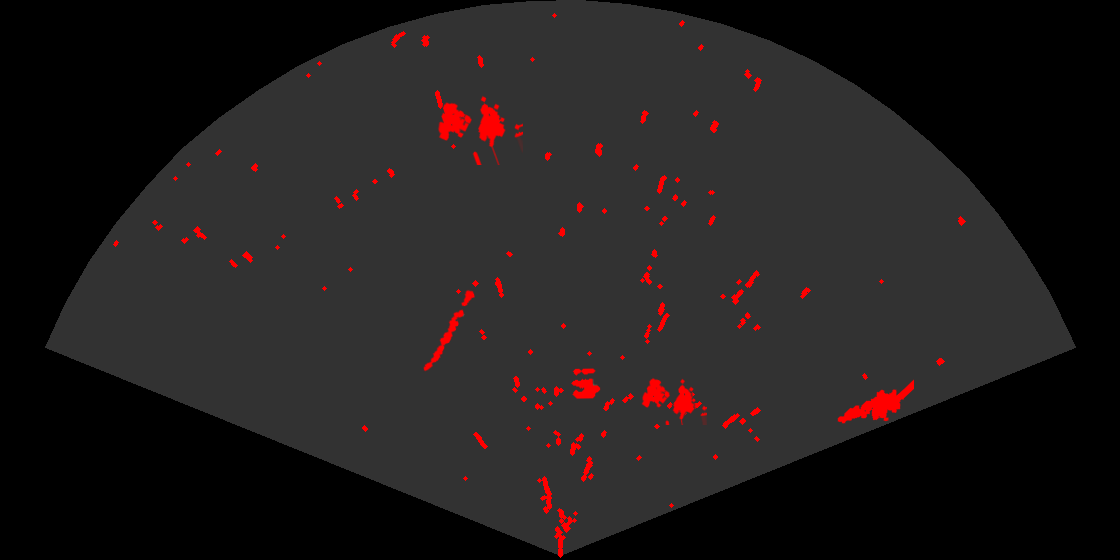ball: (570, 367, 602, 400)
cage: (436, 94, 523, 165), (640, 376, 707, 425)
chain: (422, 288, 477, 373)
frogman: (836, 378, 914, 425)
